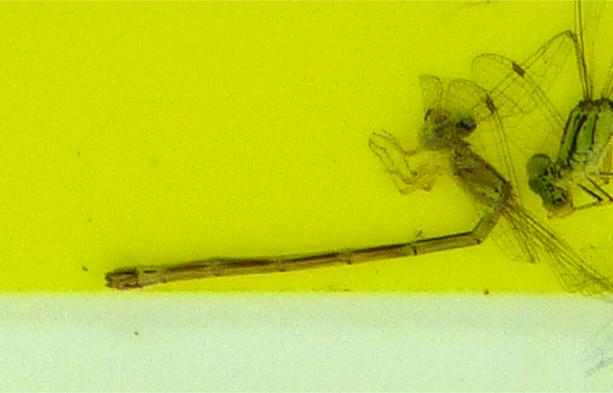Odonata: (100, 100, 513, 293)
